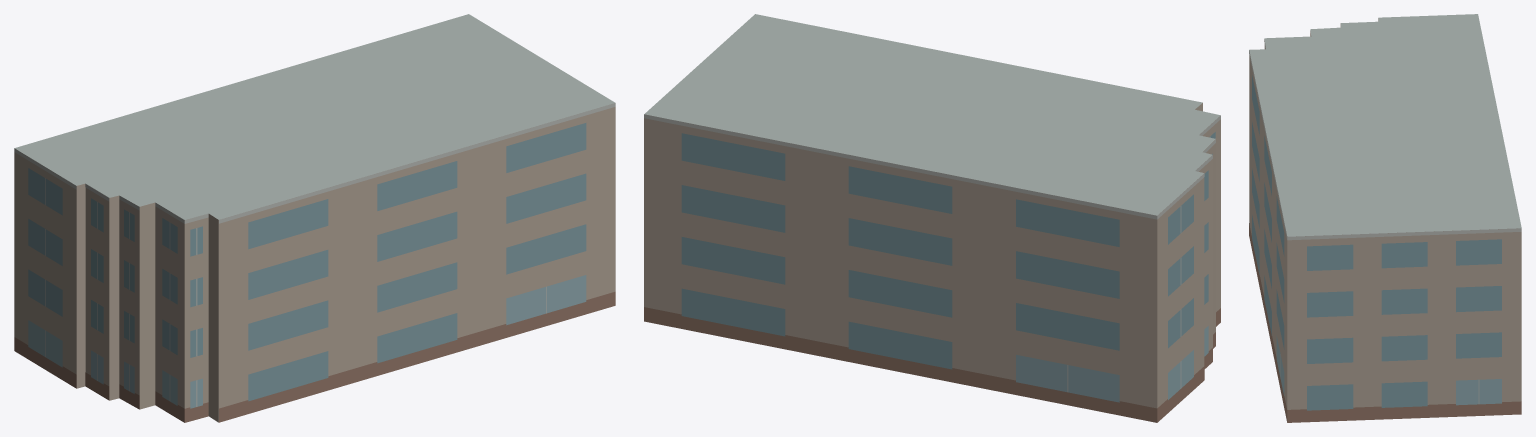
The model's file is survey-upis-32976428.glb.
The picture shows the model from 3 angles, left to right: view 1: azimuth 30°, elevation 25°; view 2: azimuth 150°, elevation 25°; view 3: azimuth 270°, elevation 25°; orthographic projection. The views are drawn at different scales.
Visible parts, largest first — view 1: survey-upis-32976428.tmp; view 2: survey-upis-32976428.tmp; view 3: survey-upis-32976428.tmp.
Boxes of the visible parts, x1,y1,x2,y2 form: survey-upis-32976428.tmp: (14, 14, 615, 422); survey-upis-32976428.tmp: (644, 14, 1220, 422); survey-upis-32976428.tmp: (1249, 14, 1521, 422).
Bounding box in the file's own units: 32.86 × 12.8 × 17.
